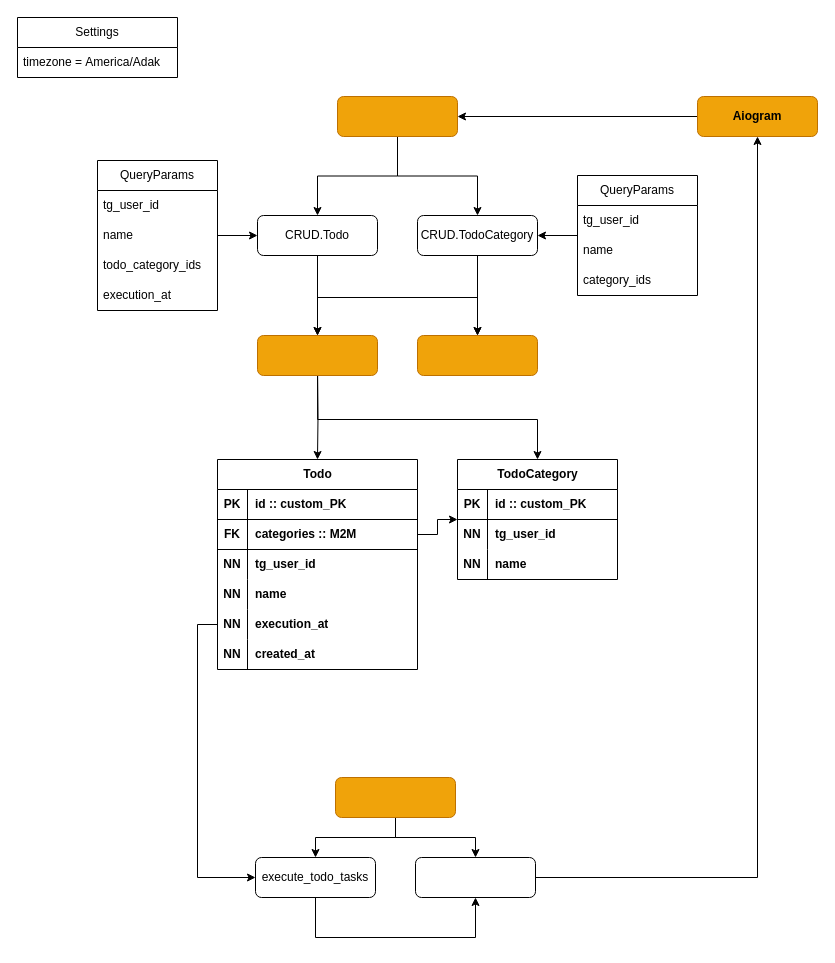
Some shapes in this 835 by 963 pixel diagram are drawn without their labels. The shapes that lost their labels are listed below. From the top down, each one's centre as x and y in pixels, then its label:
At (x=397, y=116): "Django".
At (x=317, y=355): "PostgreSQL :: CUD".
At (x=477, y=355): "Redis :: RD".
At (x=395, y=797): "Celery".
At (x=475, y=877): "notify_user".
